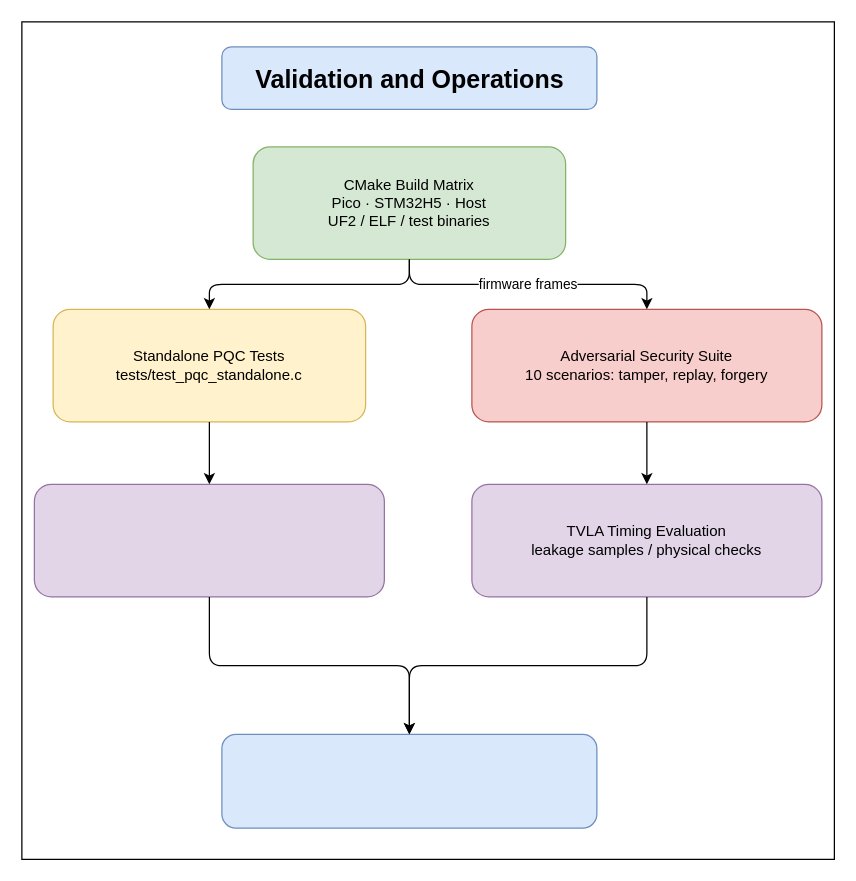
Image size: 856x881. Some labels were removed from this diagram. The centre of each missing label's shape, as x and y in pixels:
Benchmark + Stack Analysis cycle counts · latency · watermark: the point at 208,540
Reports and Artifacts tools/security · tools/benchmarks: the point at 409,780
